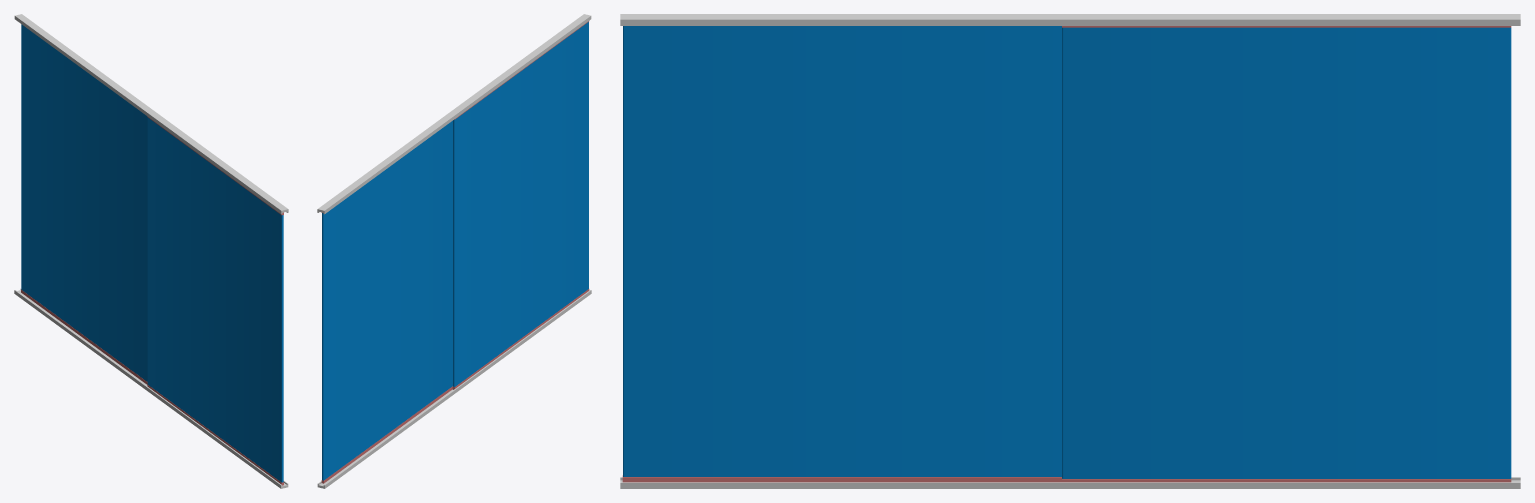
File: Bath glass.FBX
The picture shows the model from 3 angles, left to right: view 1: azimuth 30°, elevation 25°; view 2: azimuth 150°, elevation 25°; view 3: azimuth 270°, elevation 25°; orthographic projection. The views are drawn at different scales.
Parts seen in each view (by area): view 1: Box005, Box006, Box009; view 2: Box005, Box006, Box009; view 3: Box006, Box005, Box009.
Part boxes in pixels (x1,y1,x2,y2): Box005: [147, 116, 283, 485]; Box006: [21, 24, 147, 384]; Box009: [14, 14, 288, 488]; Box005: [452, 21, 589, 389]; Box006: [321, 120, 452, 483]; Box009: [317, 14, 591, 488]; Box006: [1062, 26, 1511, 482]; Box005: [622, 26, 1061, 482]; Box009: [620, 14, 1520, 488].
Bounding box in the file's own units: 1.14 × 40.88 × 71.05.
